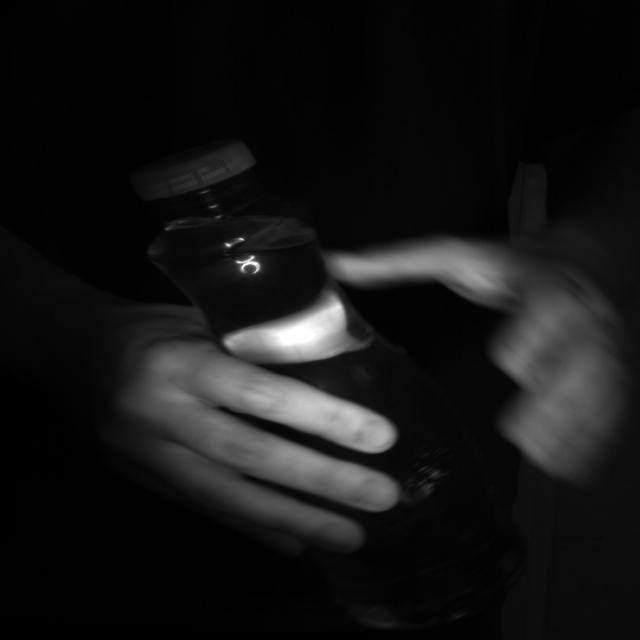Not Good: (127, 140, 260, 214)
